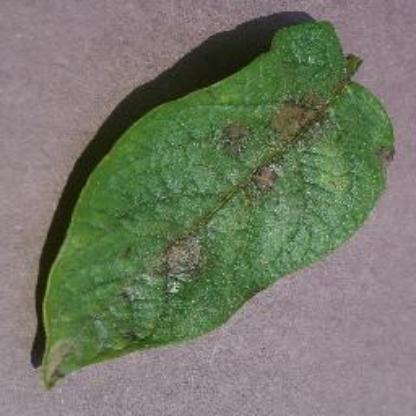Late-Blight: (14, 17, 400, 402)
